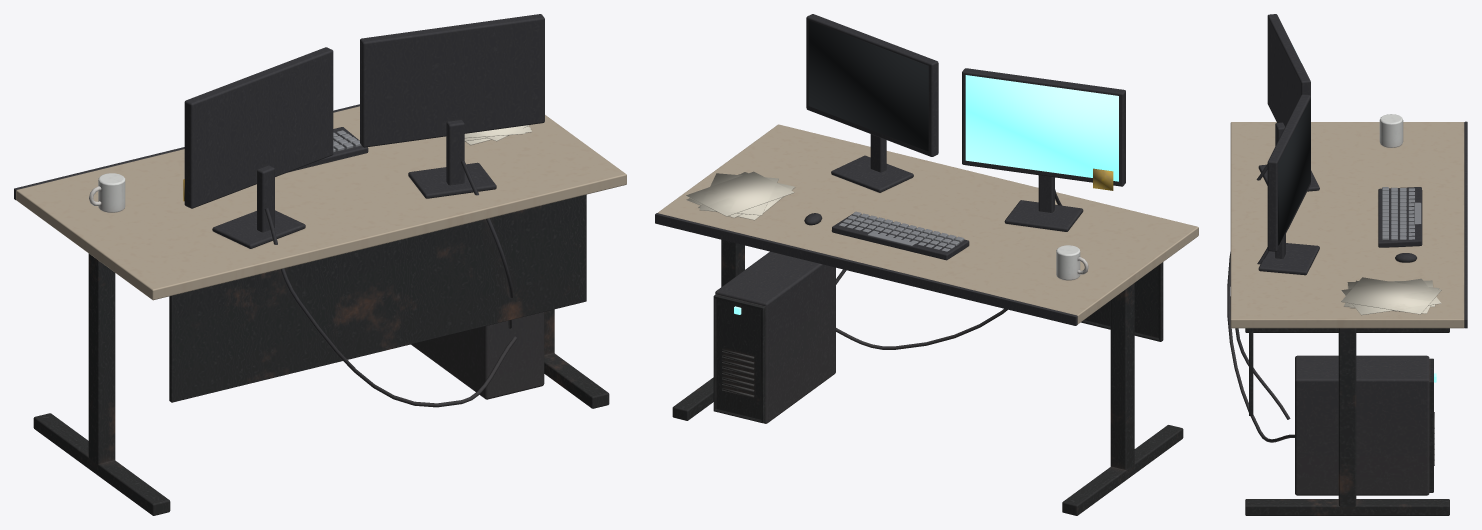
The model's file is escritorio_pc.glb.
3 views of the same model, side by side, from view 1: azimuth 30°, elevation 25°; view 2: azimuth 150°, elevation 25°; view 3: azimuth 270°, elevation 25° (orthographic). The views are drawn at different scales.
Parts seen in each view (by area): view 1: escritorio_pc; view 2: escritorio_pc; view 3: escritorio_pc.
Part boxes in pixels (<box>): escritorio_pc: <box>14,14,626,515</box>; escritorio_pc: <box>655,14,1198,515</box>; escritorio_pc: <box>1227,14,1467,515</box>.
Size of the model in its own units: 1.6 by 1.26 by 0.8227.
4 materials, 1 textured.
